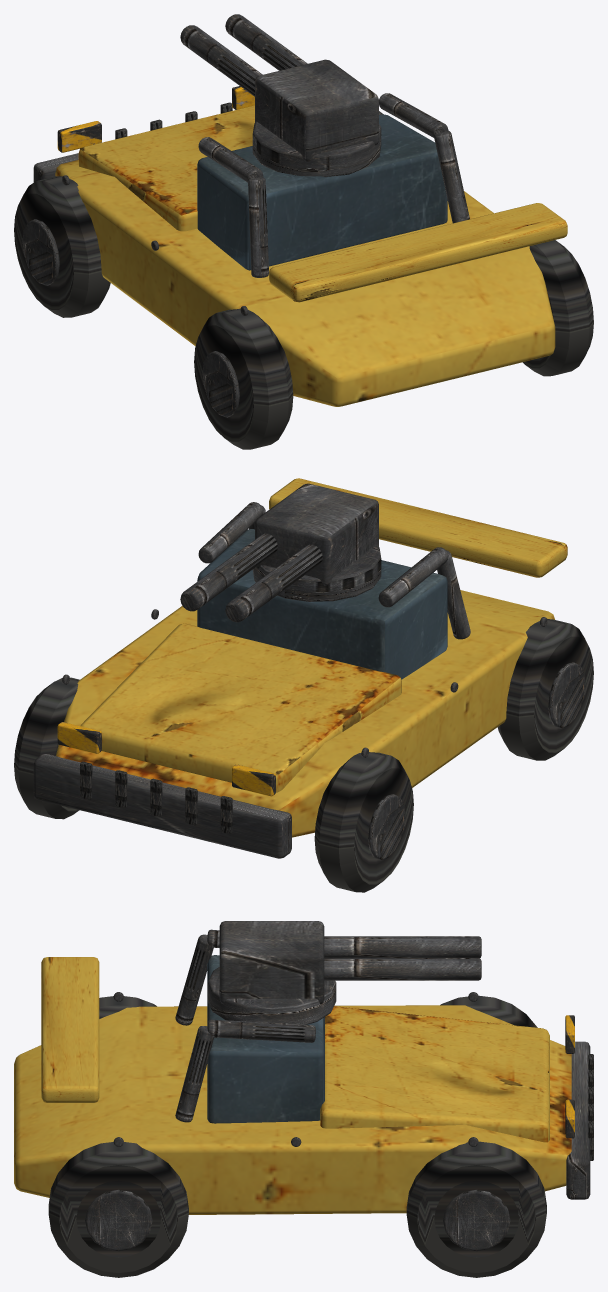
File: mantis.gltf
3 renders of one model, top to bottom at view 1: azimuth 30°, elevation 25°; view 2: azimuth 150°, elevation 25°; view 3: azimuth 270°, elevation 25°, orthographic.
Parts seen in each view (by area): view 1: Armored chassis, Angled windshield, Rear wing, Sports hood, CC0Wheel, Gun receiver, CC0Wheel.002, CC0Wheel.001, Turret, Muzzle, Hub.002, Hub (+7 smaller); view 2: Sports hood, Armored chassis, Angled windshield, Ram plate, CC0Wheel.002, Rear wing, CC0Wheel, Gun receiver, CC0Wheel.003, Turret, Muzzle.001, Muzzle (+7 smaller); view 3: Armored chassis, Sports hood, CC0Wheel.001, CC0Wheel.003, Angled windshield, Rear wing, Gun receiver, Muzzle.001, Muzzle, Turret, Hub.003, Hub.001 (+6 smaller).
Part boxes in pixels (<box>): Armored chassis: <box>55,160,555,406</box>; Angled windshield: <box>197,114,447,270</box>; Rear wing: <box>269,203,567,302</box>; Sports hood: <box>78,105,254,231</box>; CC0Wheel: <box>194,308,293,449</box>; Gun receiver: <box>255,59,378,161</box>; CC0Wheel.002: <box>14,176,110,317</box>; CC0Wheel.001: <box>523,240,593,376</box>; Turret: <box>252,121,381,176</box>; Muzzle: <box>180,25,262,96</box>; Hub.002: <box>22,219,59,285</box>; Hub: <box>202,351,239,417</box>; Sports hood: <box>80,623,401,792</box>; Armored chassis: <box>56,590,554,837</box>; Angled windshield: <box>197,529,447,679</box>; Ram plate: <box>33,754,291,858</box>; CC0Wheel.002: <box>314,752,413,892</box>; Rear wing: <box>269,478,567,577</box>; CC0Wheel: <box>497,619,593,760</box>; Gun receiver: <box>255,483,378,585</box>; CC0Wheel.003: <box>14,677,79,819</box>; Turret: <box>252,545,381,601</box>; Muzzle.001: <box>180,533,277,611</box>; Muzzle: <box>225,544,322,622</box>; Armored chassis: <box>14,1005,571,1214</box>; Sports hood: <box>320,1006,549,1142</box>; CC0Wheel.001: <box>48,1142,188,1277</box>; CC0Wheel.003: <box>406,1141,546,1277</box>; Angled windshield: <box>207,955,324,1123</box>; Rear wing: <box>41,957,99,1102</box>; Gun receiver: <box>219,921,324,1003</box>; Muzzle.001: <box>324,958,481,980</box>; Muzzle: <box>324,936,481,958</box>; Turret: <box>207,967,336,1024</box>; Hub.003: <box>443,1189,510,1251</box>; Hub.001: <box>85,1189,152,1251</box>.
Bounding box in the file's own units: 2.5 × 1.8 × 3.6.
Materials: 5 (5 with a texture image).
